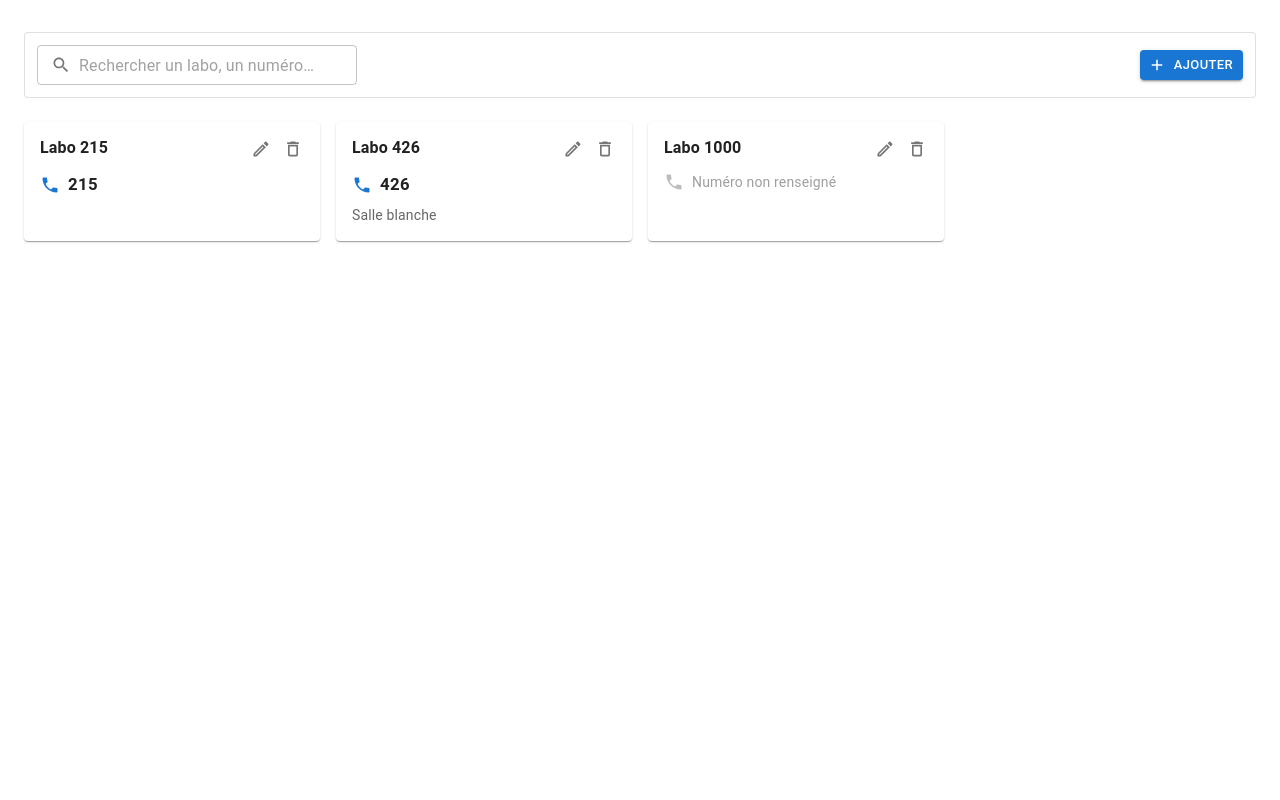
Test: EquipeLaboratoiresPage › modifie un contact (pré-remplissage + PUT complet)
Expected: the heading "Labo 426" is shown, [352,138,420,157]
Click the button named "Modifier Labo 426" at (573, 149), box [558,134,588,164]
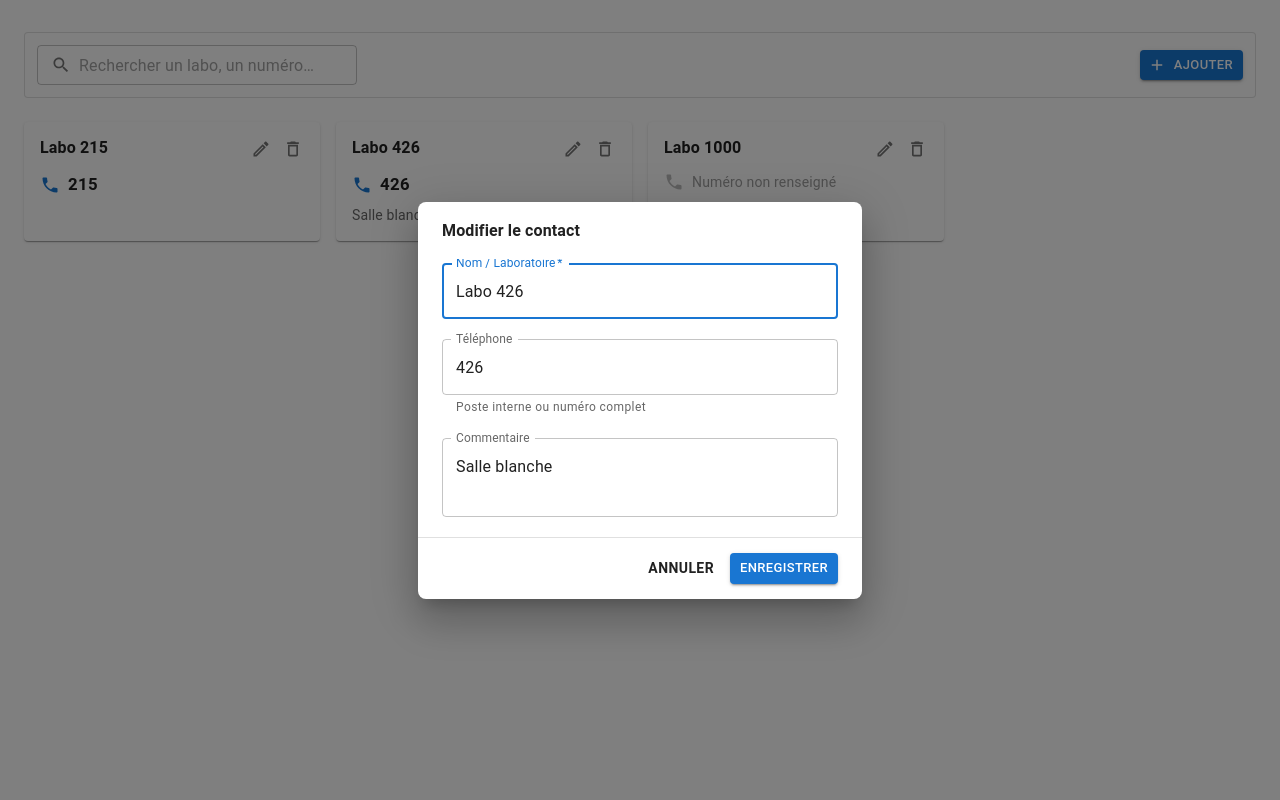
Result: the field labelled "Nom / Laboratoire *" holds "Labo 426" at [442,263,838,319]
Result: the field labelled "Téléphone" holds "426"
Result: the text box labelled "Commentaire" holds "Salle blanche" at [456,454,824,500]
Replace the text in the field labelled "Téléphone" with "4260" at (640, 367), box [442,339,838,395]
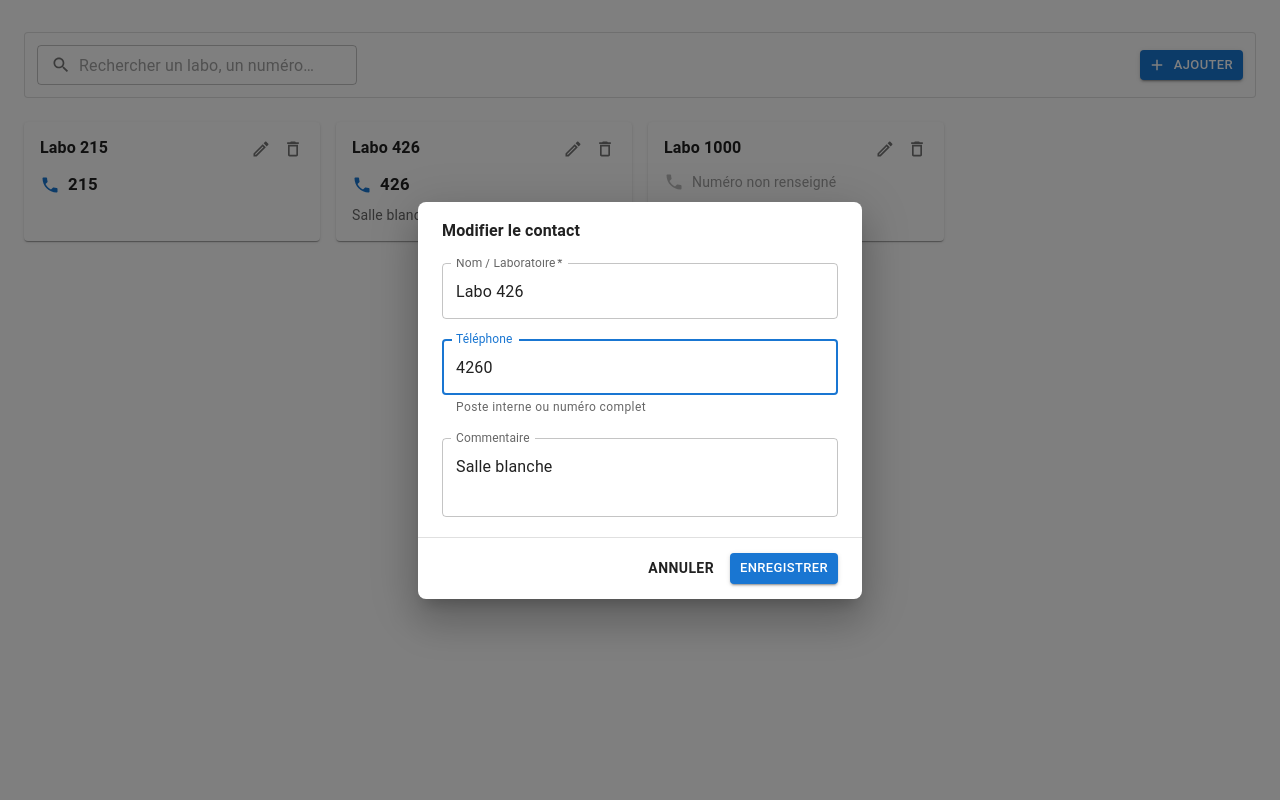
Click the button "Enregistrer" at (784, 568), box [730,553,838,584]
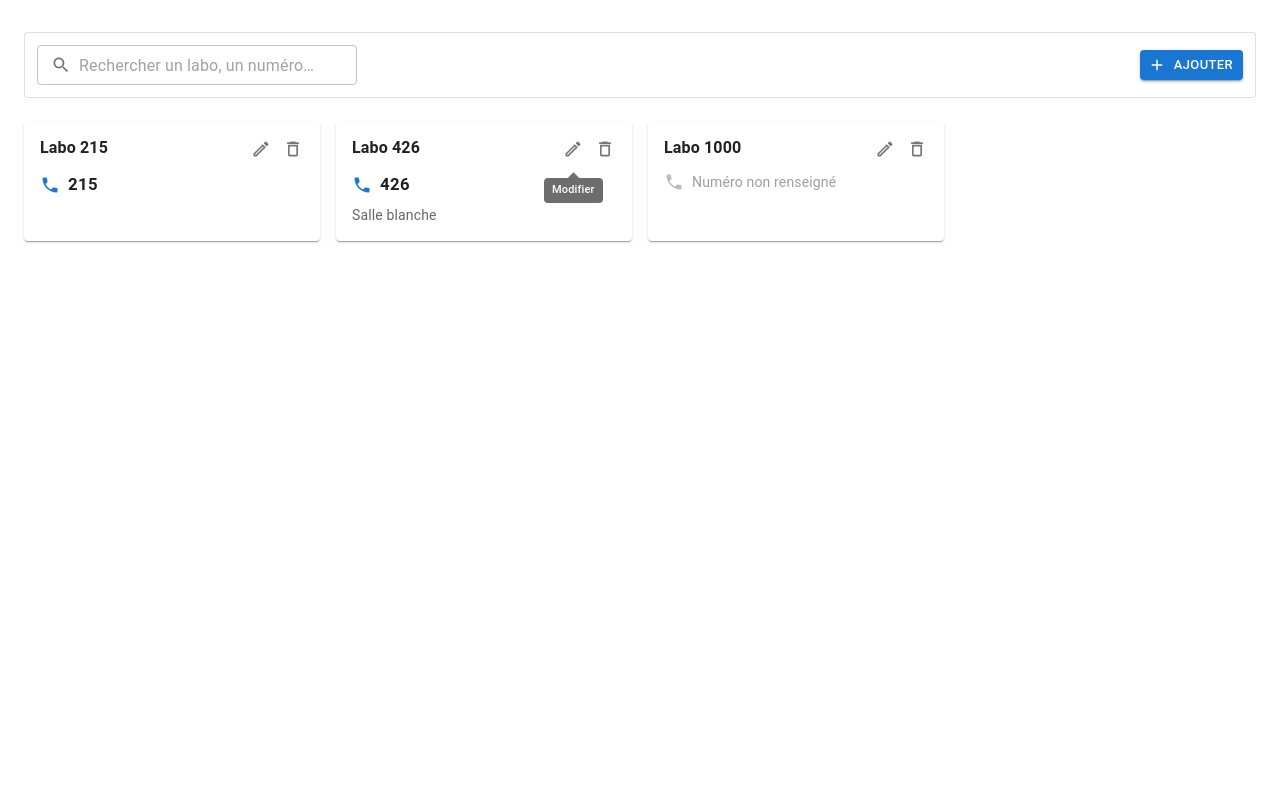
Result: the heading "Modifier le contact" is gone
